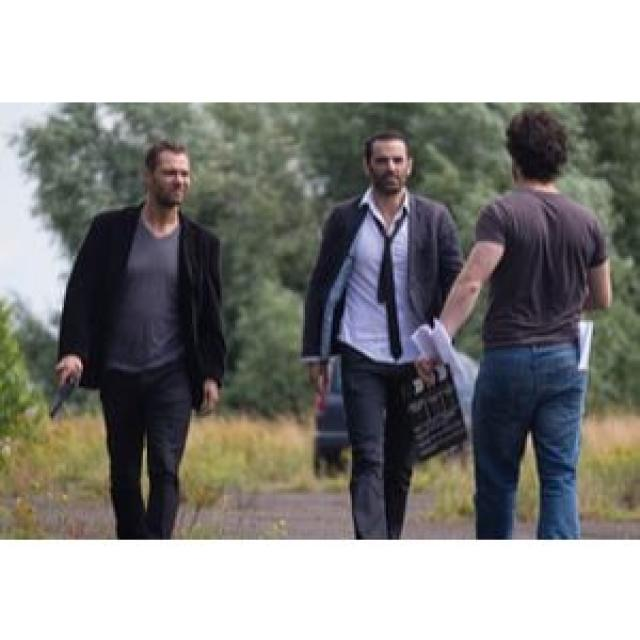nonfall: (294, 127, 452, 535), (73, 140, 222, 544), (475, 117, 613, 534)
